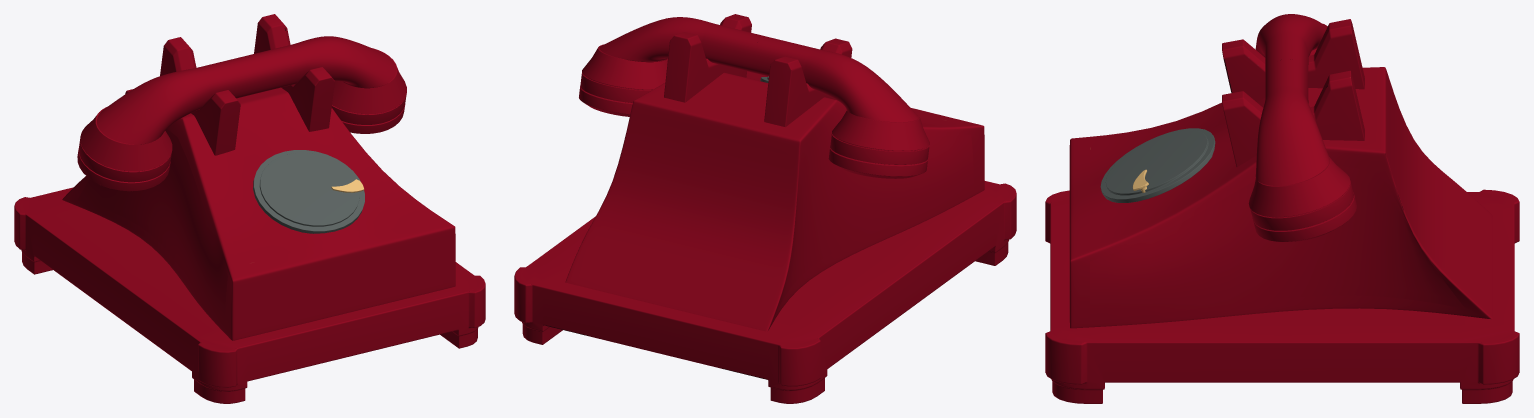
The model's file is RedPhone.glb.
The picture shows the model from 3 angles, left to right: view 1: azimuth 30°, elevation 25°; view 2: azimuth 150°, elevation 25°; view 3: azimuth 270°, elevation 25°; orthographic projection. The views are drawn at different scales.
Parts seen in each view (by area): view 1: RedPhone_Baked; view 2: RedPhone_Baked; view 3: RedPhone_Baked.
Boxes of the visible parts, x1,y1,x2,y2 form: RedPhone_Baked: (14, 14, 485, 403); RedPhone_Baked: (514, 14, 1016, 403); RedPhone_Baked: (1045, 14, 1519, 403).
Size of the model in its own units: 1.2 by 0.9103 by 1.39.
Materials: 1 (1 with a texture image).
